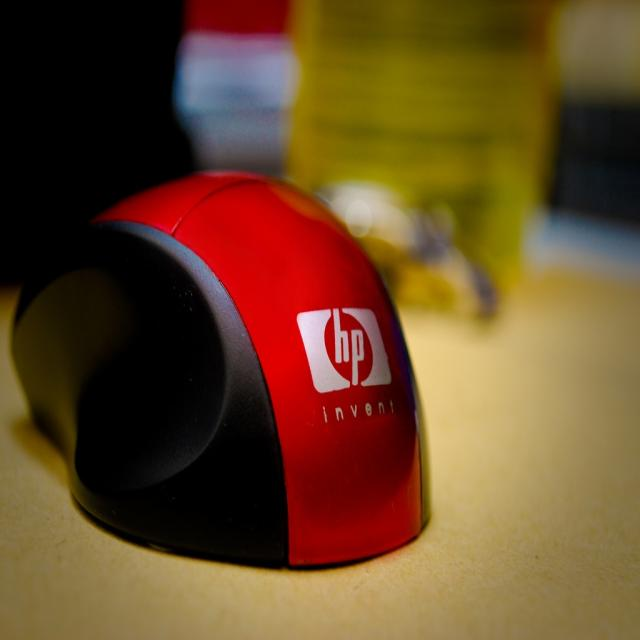HP: (294, 306, 394, 398)
